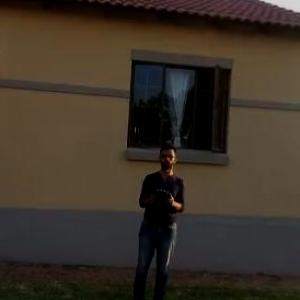follow: (124, 139, 189, 299)
